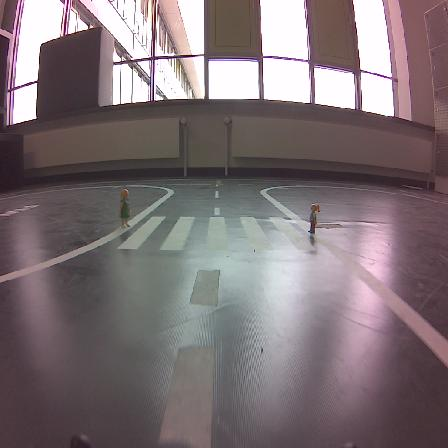CHILD: (309, 204, 319, 233)
PERSON: (119, 189, 130, 227)
